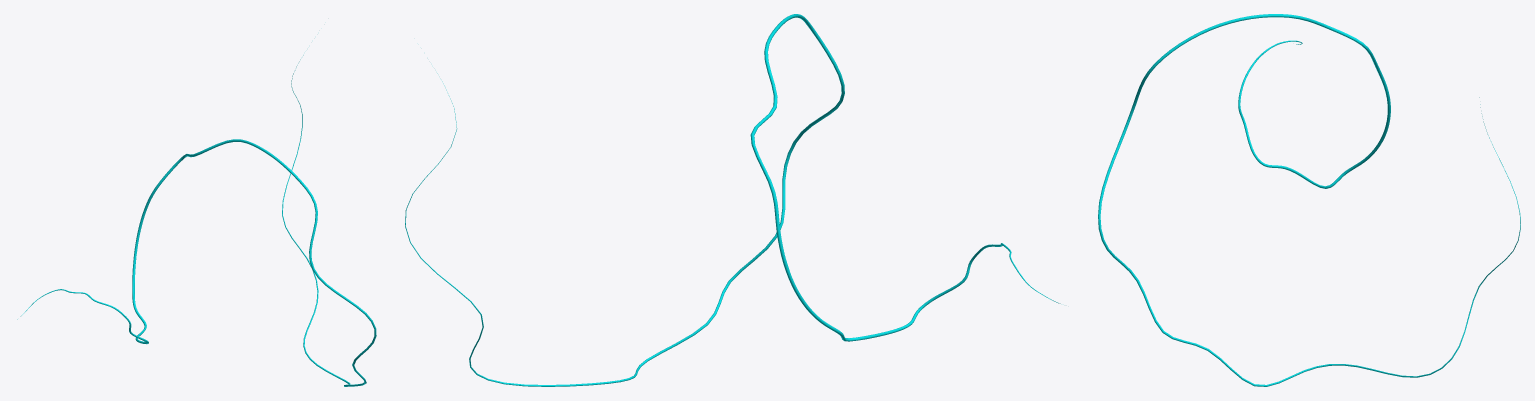
The model's file is Trickster-spiral-v2.glb.
3 renders of one model, left to right at view 1: azimuth 30°, elevation 25°; view 2: azimuth 150°, elevation 25°; view 3: azimuth 270°, elevation 25°, orthographic. The views are drawn at different scales.
Visible parts, largest first — view 1: Spiral; view 2: Spiral; view 3: Spiral.
Part boxes in pixels (left/top/right/bottom): Spiral: left=17, top=55, right=376, bottom=386; Spiral: left=405, top=14, right=1060, bottom=386; Spiral: left=1098, top=14, right=1520, bottom=386.
Size of the model in its own units: 1.43 by 0.9819 by 1.1.
